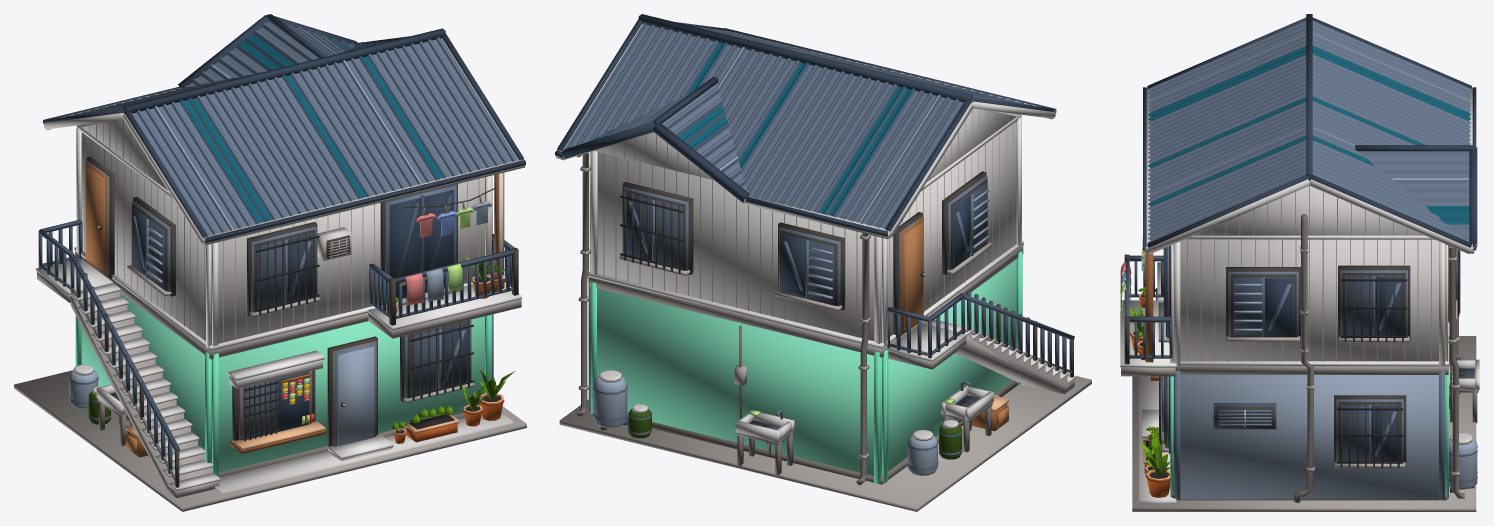
The model's file is house-sarisari-balcony.glb.
3 renders of one model, left to right at view 1: azimuth 30°, elevation 25°; view 2: azimuth 150°, elevation 25°; view 3: azimuth 270°, elevation 25°, orthographic. The views are drawn at different scales.
Visible parts, largest first — view 1: Filipino House 02 - Sari-Sari Balcony_LOD0; view 2: Filipino House 02 - Sari-Sari Balcony_LOD0; view 3: Filipino House 02 - Sari-Sari Balcony_LOD0.
Part boxes in pixels (box(x1,y1,x2,y2)): Filipino House 02 - Sari-Sari Balcony_LOD0: box(14, 14, 526, 511); Filipino House 02 - Sari-Sari Balcony_LOD0: box(555, 14, 1091, 511); Filipino House 02 - Sari-Sari Balcony_LOD0: box(1120, 14, 1479, 511).
Bounding box in the file's own units: 7.99 × 7.28 × 6.96.
Materials: 1 (1 with a texture image).
